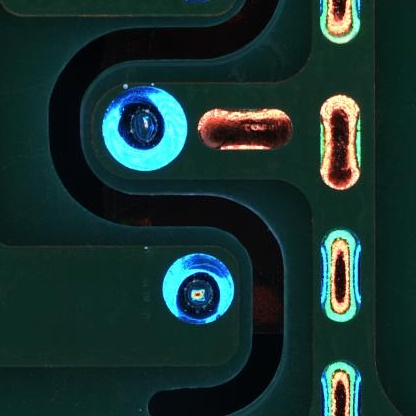spot: (101, 85, 186, 174), (163, 251, 235, 326)
